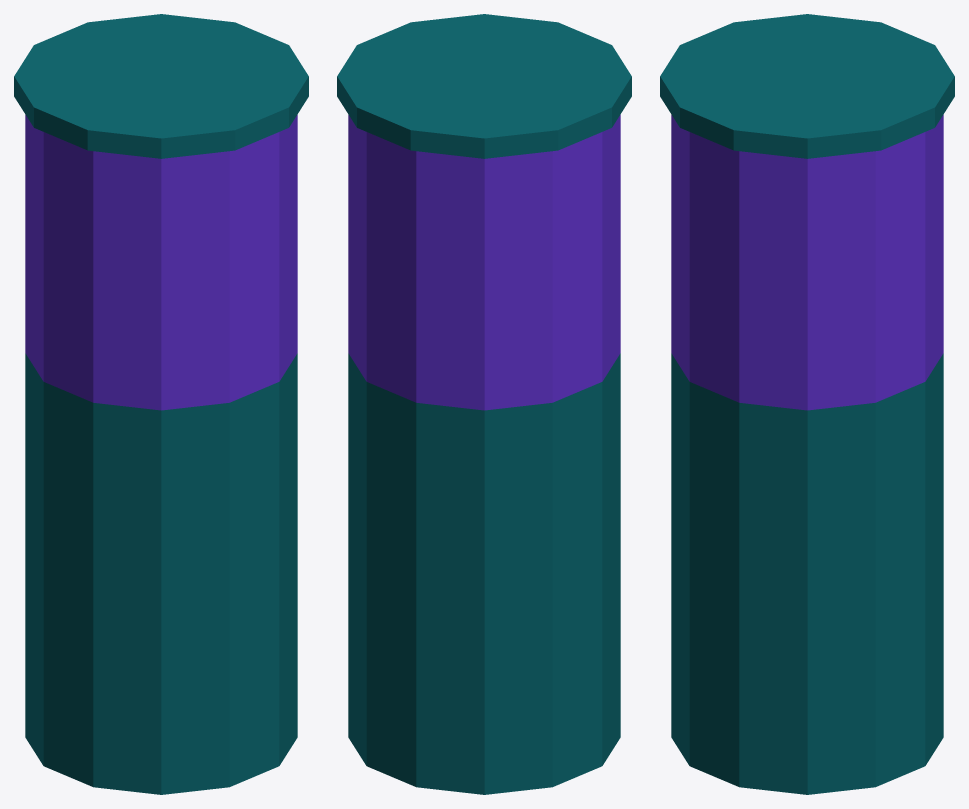
File: Ürün36.fbx
3 views of the same model, side by side, from view 1: azimuth 30°, elevation 25°; view 2: azimuth 150°, elevation 25°; view 3: azimuth 270°, elevation 25° (orthographic).
Visible parts, largest first — view 1: pCylinder21; view 2: pCylinder21; view 3: pCylinder21.
Part boxes in pixels (x1,y1,x2,y2): pCylinder21: [14, 14, 308, 794]; pCylinder21: [337, 14, 631, 794]; pCylinder21: [660, 14, 954, 794].
Size of the model in its own units: 11.6 by 28.73 by 11.6.
